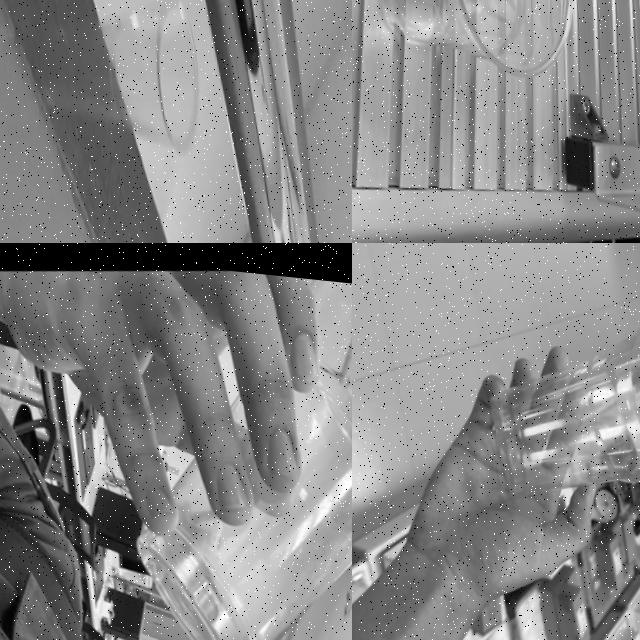glass: (102, 254, 352, 640), (478, 296, 640, 509), (20, 0, 213, 168), (359, 0, 592, 99)
